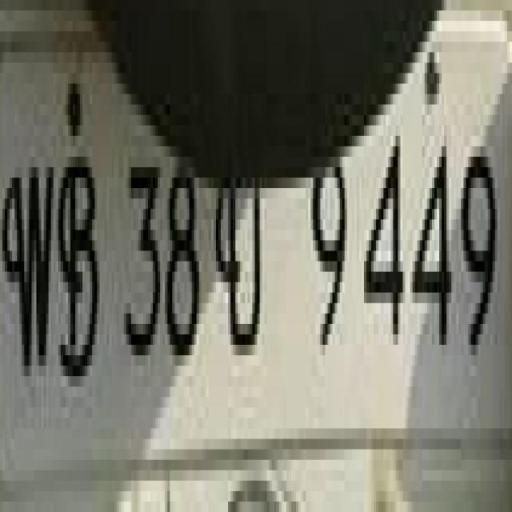number plate: (21, 20, 512, 470)
